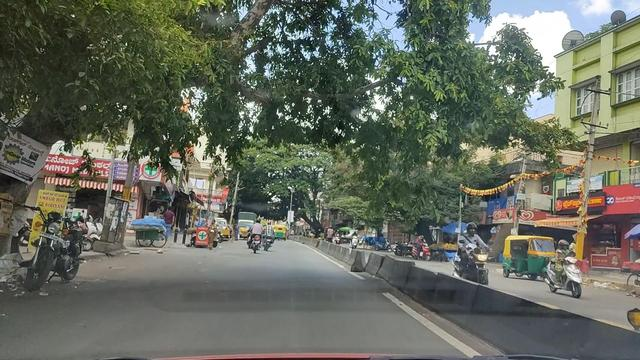LMV: (33, 201, 93, 305)
